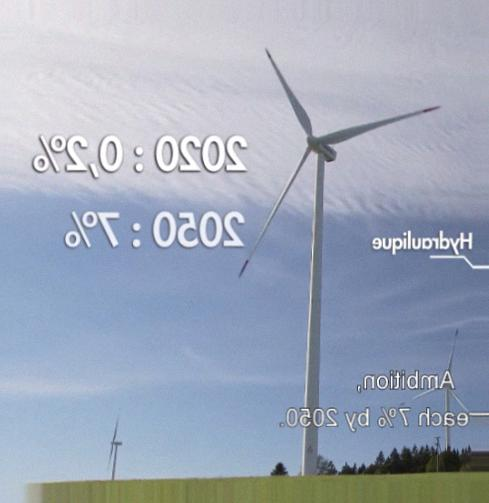wind turbine: (231, 45, 442, 469)
